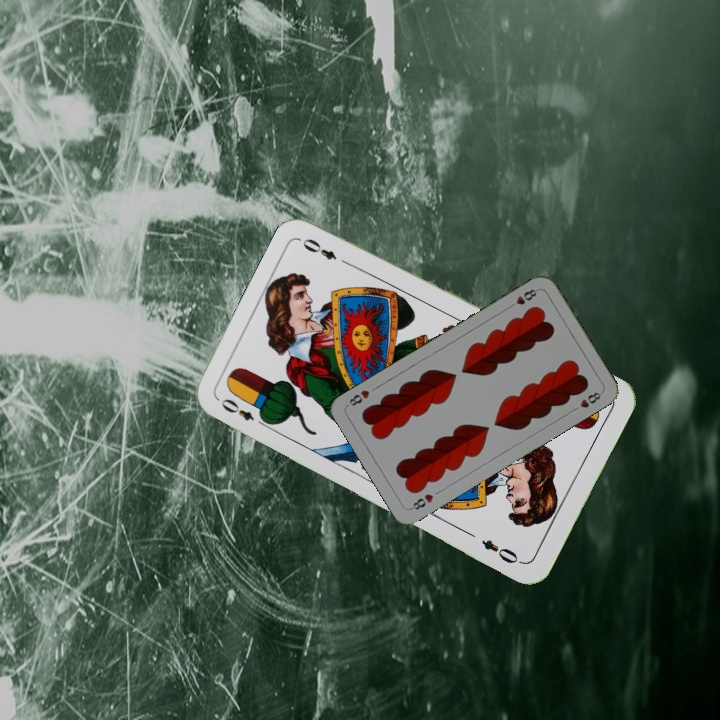EO: (217, 394, 271, 431)
H8: (504, 285, 541, 311), (406, 490, 436, 513)
